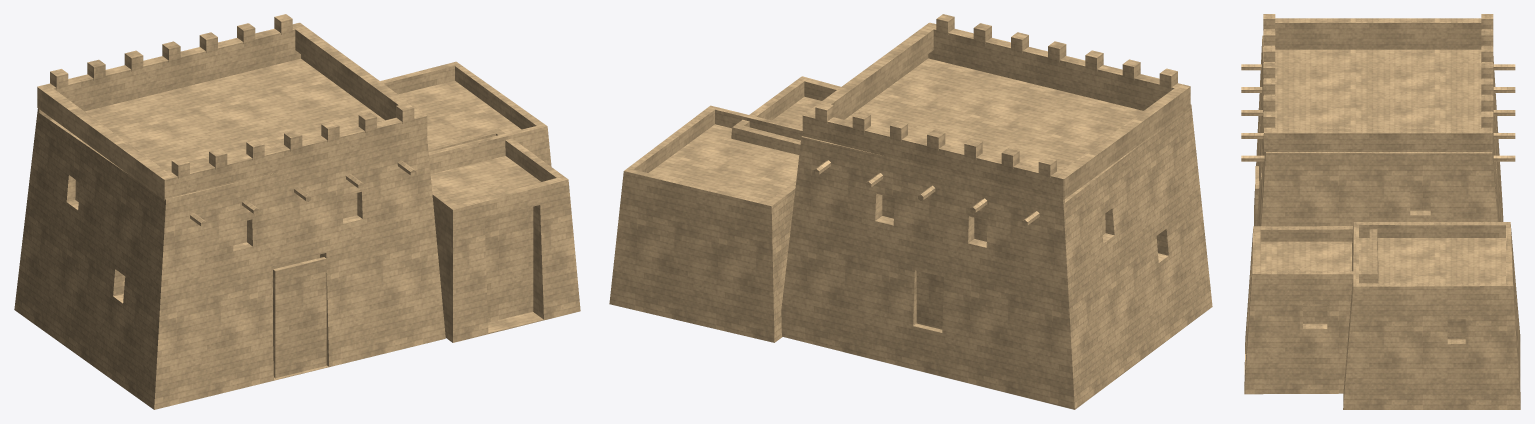
File: house-f.glb
The picture shows the model from 3 angles, left to right: view 1: azimuth 30°, elevation 25°; view 2: azimuth 150°, elevation 25°; view 3: azimuth 270°, elevation 25°; orthographic projection. The views are drawn at different scales.
Visible parts, largest first — view 1: house-f; view 2: house-f; view 3: house-f.
Boxes of the visible parts, box(x1,y1,x2,y2) form: house-f: box(14, 14, 580, 409); house-f: box(609, 14, 1212, 409); house-f: box(1241, 14, 1520, 409).
Size of the model in its own units: 7.87 by 3.86 by 4.64.
1 material, 1 textured.
